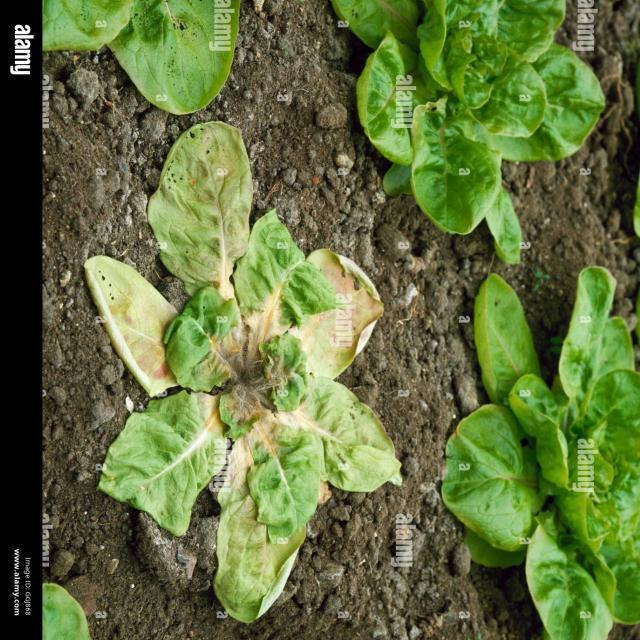Lettuce: (103, 125, 386, 618), (322, 0, 603, 249), (461, 258, 640, 640)
